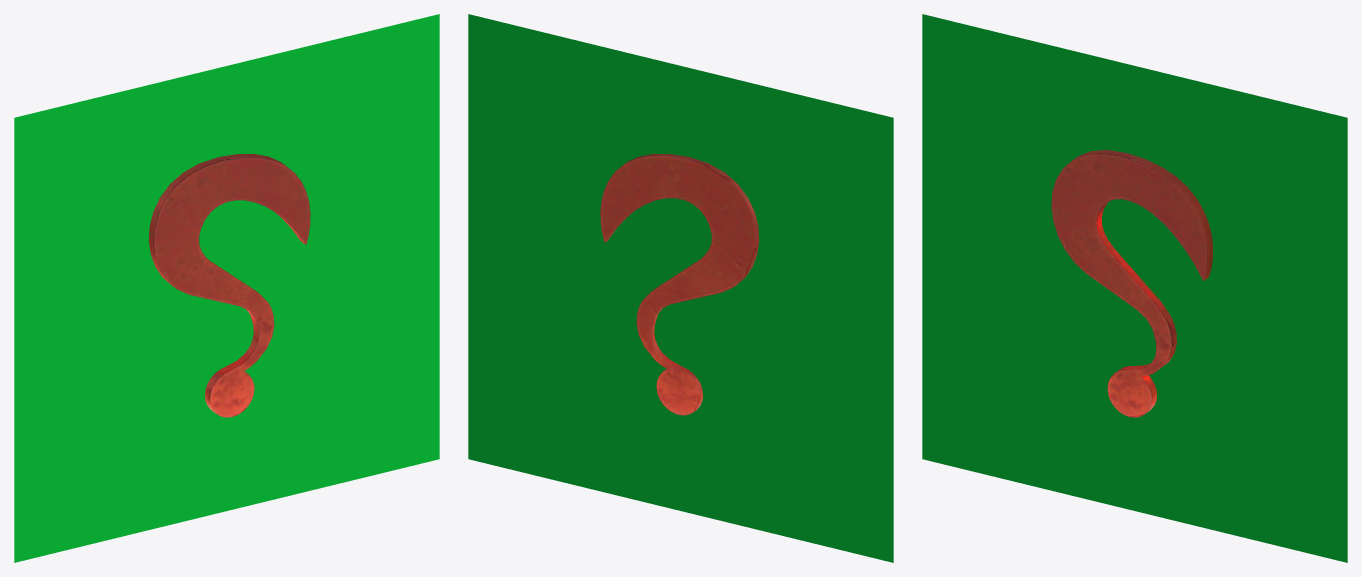
File: cauhoi_1.glb
3 views of the same model, side by side, from view 1: azimuth 30°, elevation 25°; view 2: azimuth 150°, elevation 25°; view 3: azimuth 330°, elevation 25° (orthographic).
Visible parts, largest first — view 1: cauhoi_1, Question_Export; view 2: cauhoi_1, Question_Export; view 3: cauhoi_1, Question_Export.
Boxes of the visible parts, <box> form: cauhoi_1: <box>14,14,439,562</box>; Question_Export: <box>148,154,310,417</box>; cauhoi_1: <box>468,14,893,562</box>; Question_Export: <box>600,154,759,415</box>; cauhoi_1: <box>922,14,1347,562</box>; Question_Export: <box>1051,150,1212,417</box>.
Size of the model in its own units: 1 by 1 by 0.0319.
2 materials, 1 textured.
